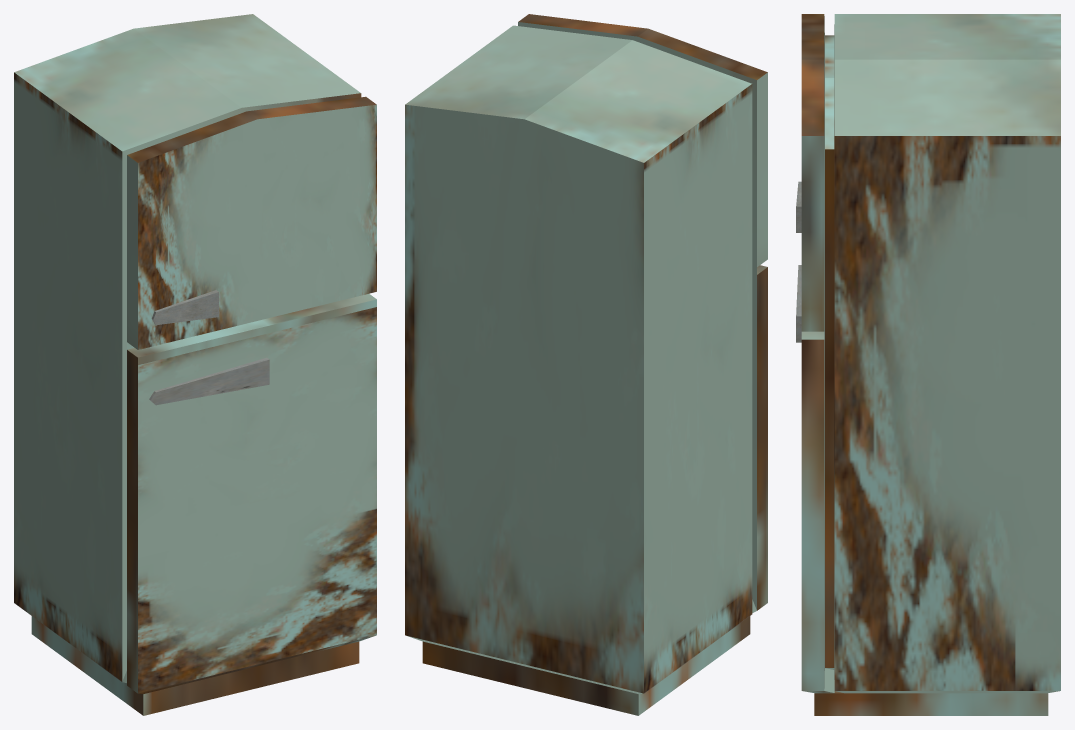
The model's file is fridge.glb.
3 views of the same model, side by side, from view 1: azimuth 30°, elevation 25°; view 2: azimuth 150°, elevation 25°; view 3: azimuth 270°, elevation 25° (orthographic). The views are drawn at different scales.
Parts seen in each view (by area): view 1: fridge, small_handle, handle; view 2: fridge; view 3: fridge.
Part boxes in pixels (box(x1,y1,x2,y2)): fridge: box(14, 14, 376, 715); small_handle: box(149, 357, 269, 405); handle: box(151, 290, 218, 325); fridge: box(405, 14, 767, 715); fridge: box(801, 14, 1060, 715).
Bounding box in the file's own units: 0.8021 × 1.84 × 0.7358.
Materials: 2 (2 with a texture image).
